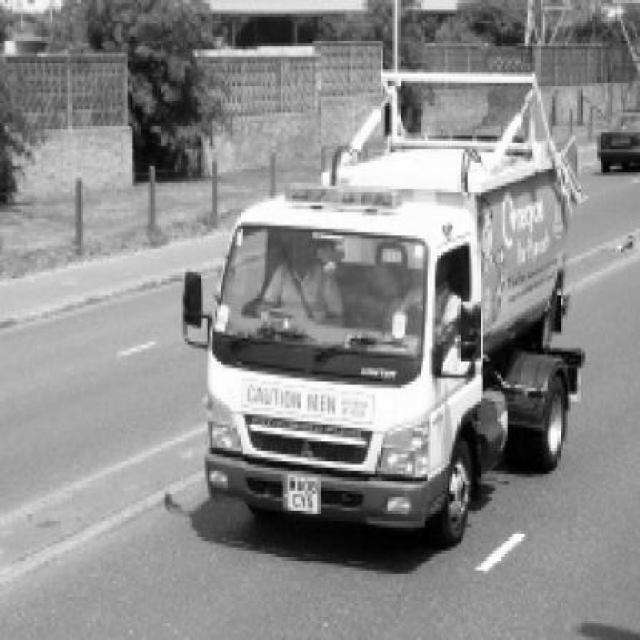Garbage Truck: (182, 71, 590, 550)
